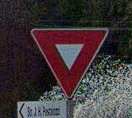cedeaza: (25, 24, 113, 99)
